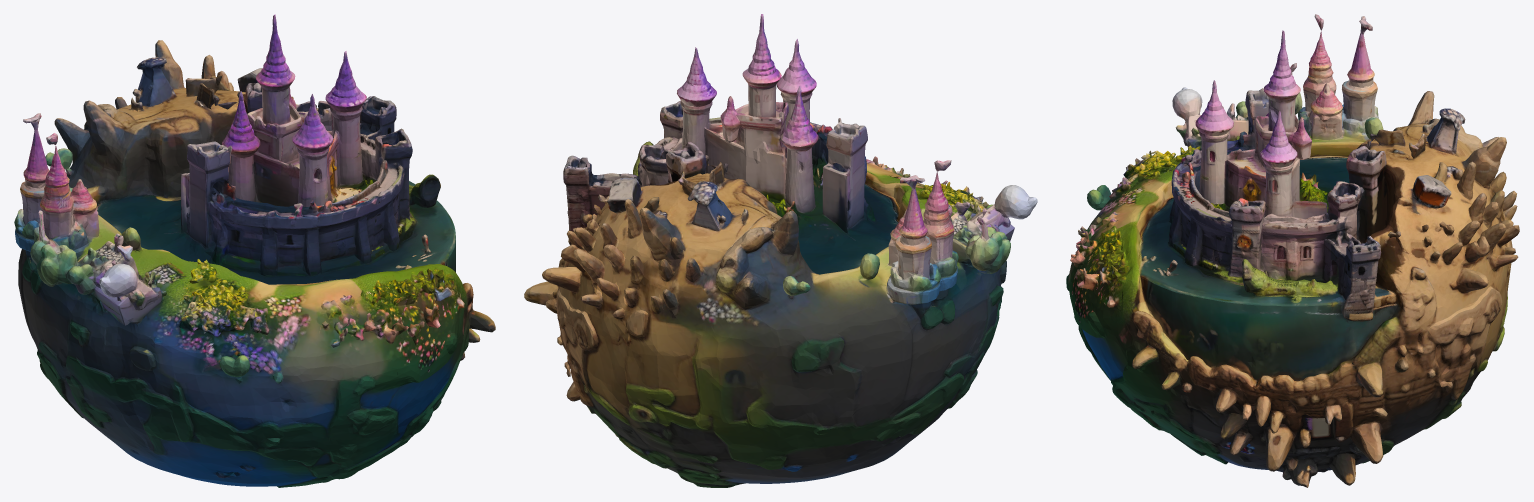
File: tripo_convert_7f47b88d-99c0-47e0-a024-6af3cfc5d753.obj
3 views of the same model, side by side, from view 1: azimuth 30°, elevation 25°; view 2: azimuth 150°, elevation 25°; view 3: azimuth 270°, elevation 25° (orthographic). The views are drawn at different scales.
Visible parts, largest first — view 1: tripo_node_7f47b88d-99c0-47e0-a024-6af3cfc5d753; view 2: tripo_node_7f47b88d-99c0-47e0-a024-6af3cfc5d753; view 3: tripo_node_7f47b88d-99c0-47e0-a024-6af3cfc5d753.
Boxes of the visible parts, x1,y1,x2,y2 form: tripo_node_7f47b88d-99c0-47e0-a024-6af3cfc5d753: (14, 14, 495, 487); tripo_node_7f47b88d-99c0-47e0-a024-6af3cfc5d753: (524, 14, 1037, 487); tripo_node_7f47b88d-99c0-47e0-a024-6af3cfc5d753: (1066, 14, 1519, 487).
Size of the model in its own units: 0.9845 by 0.9993 by 0.9496.
Materials: 1 (1 with a texture image).
